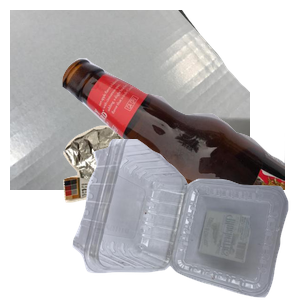cardboard: (10, 10, 250, 190)
glass: (60, 56, 300, 236)
plastic: (70, 139, 300, 300)
trash: (61, 123, 273, 300)
